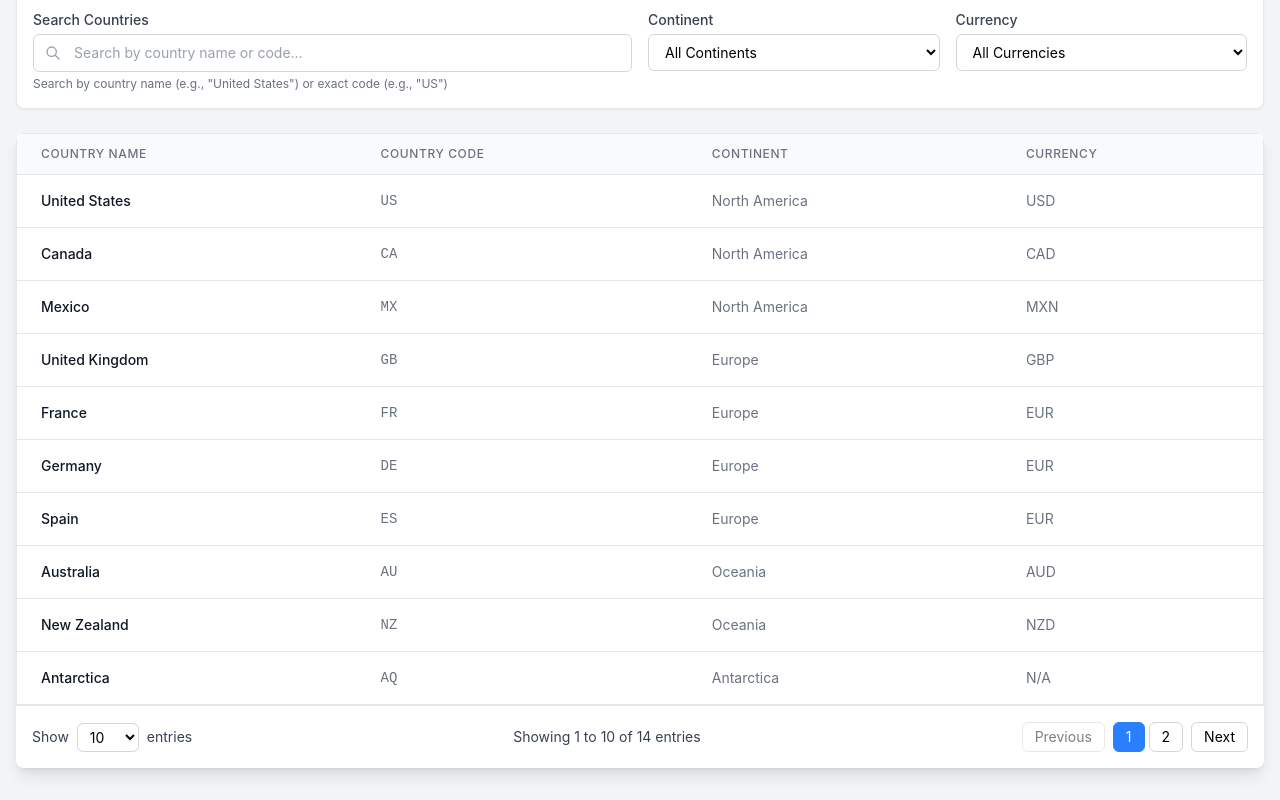
Test: App: paging › returns to page 1 when a filter changes while on a later page
The image size is (1280, 800).
(page scrolled)
Click the button "Next" at [1220, 737], box [1191,722,1248,752]
(page scrolled)
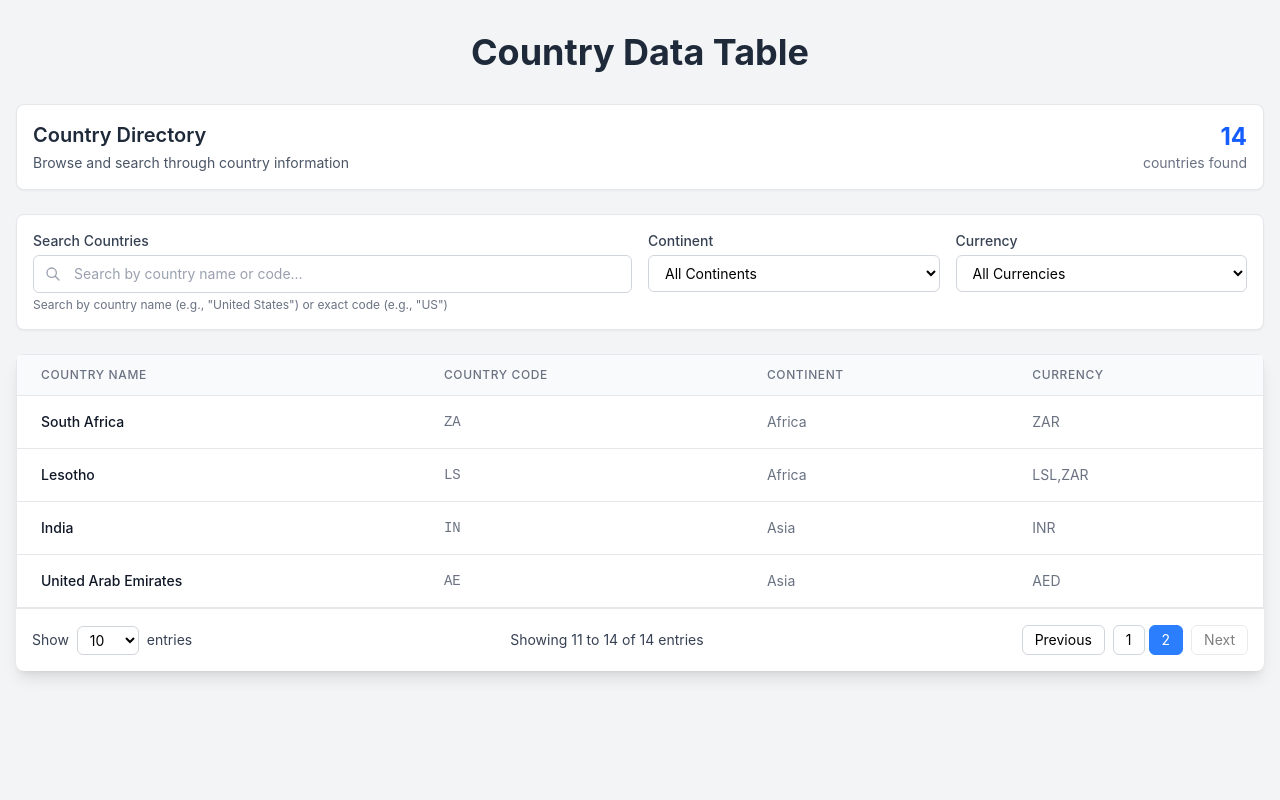
Select "Europe" in the dropdown labelled "Continent" at [794, 274], box [648,255,940,292]
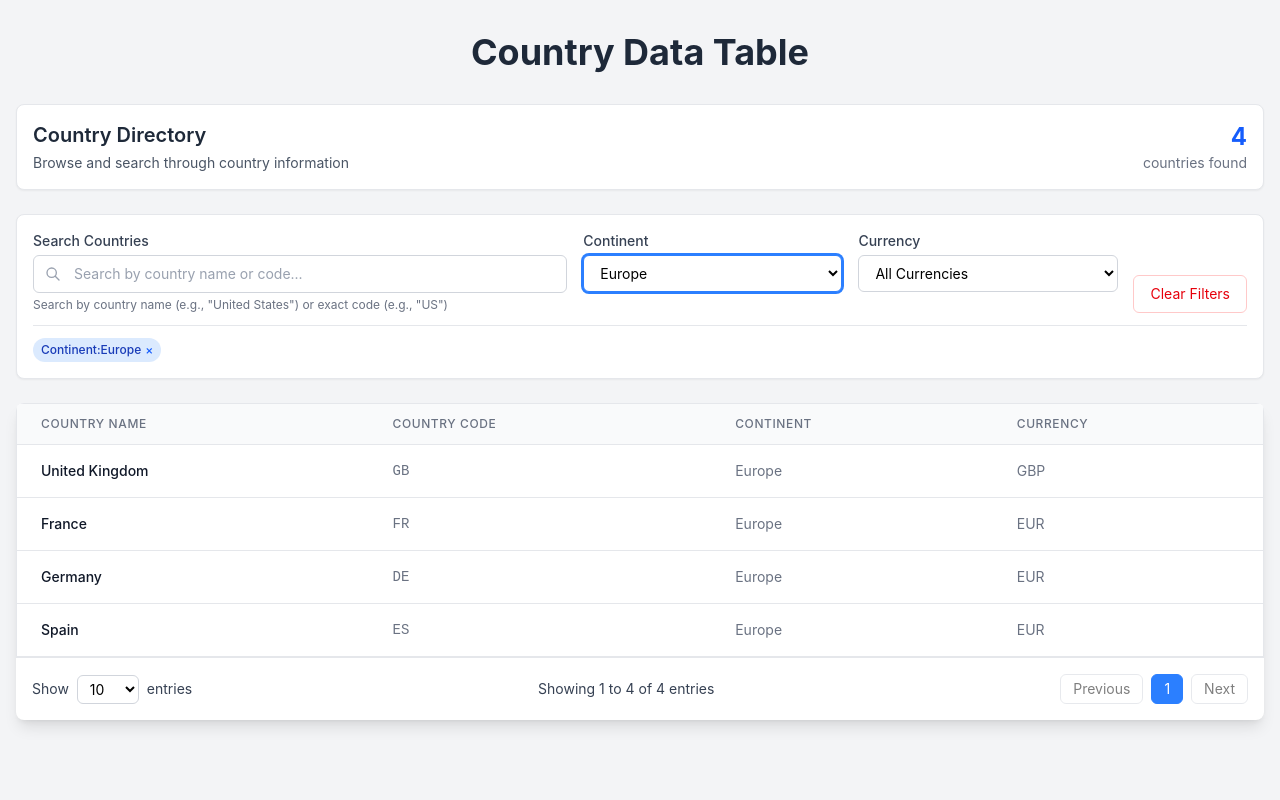
Now the text "Showing 1 to 4 of 4 entries" is shown, box [538,680,714,697]
